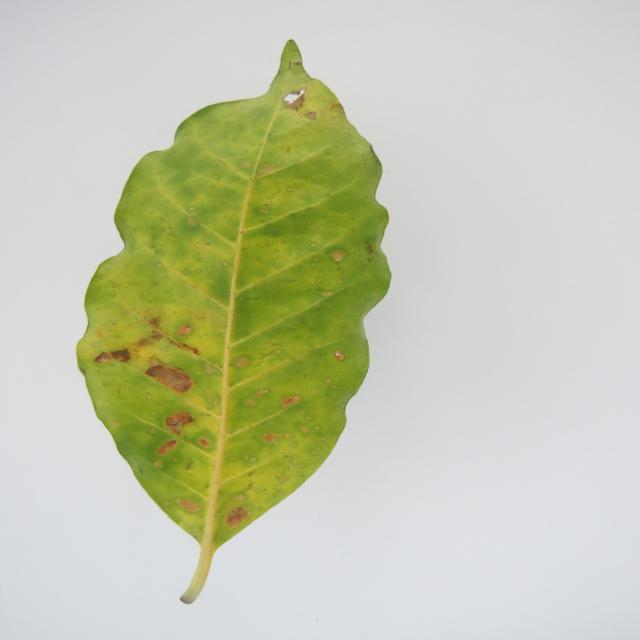DeficienciaNutricional-Calcio: (77, 41, 390, 601)
